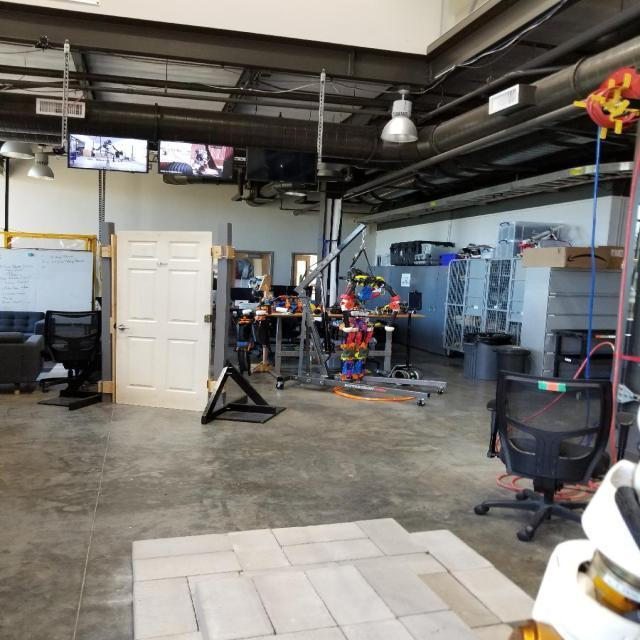door: (111, 228, 219, 414), (112, 324, 131, 332)
